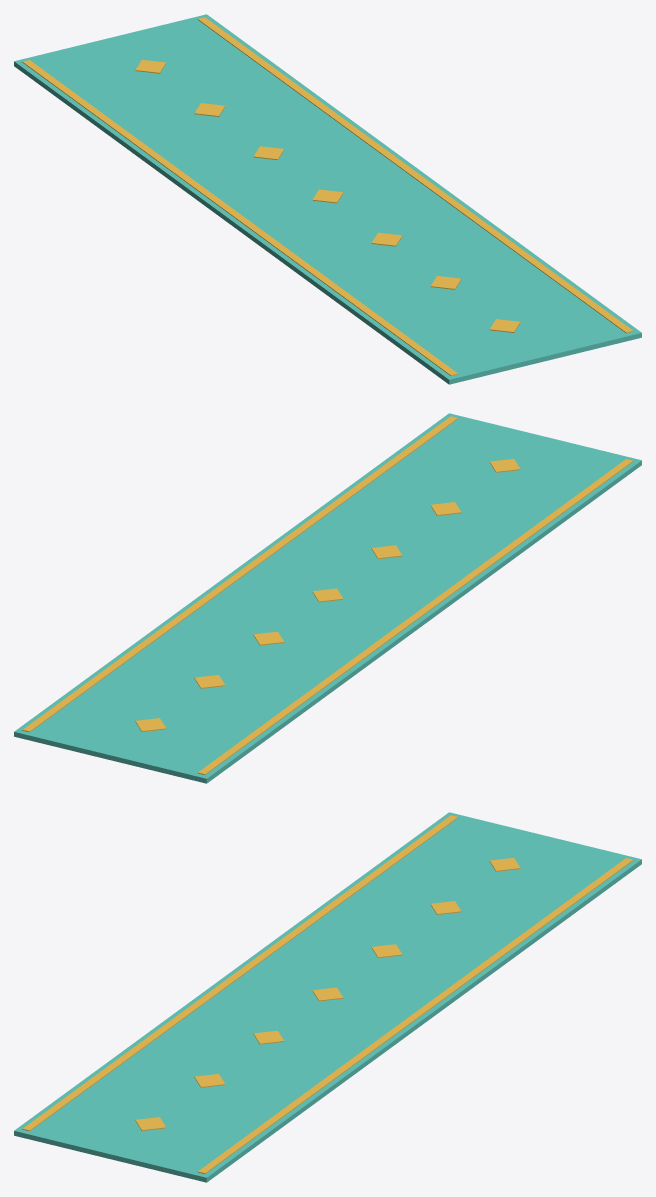
The picture shows the model from 3 angles, top to bottom: view 1: azimuth 30°, elevation 25°; view 2: azimuth 150°, elevation 25°; view 3: azimuth 330°, elevation 25°; orthographic projection.
Parts seen in each view (by area): view 1: Aisle runner, Woven gold border, Woven gold border.001; view 2: Aisle runner, Woven gold border, Woven gold border.001; view 3: Aisle runner, Woven gold border, Woven gold border.001.
Boxes of the visible parts, x1,y1,x2,y2 form: Aisle runner: (14,14,641,384); Woven gold border: (22,60,457,375); Woven gold border.001: (197,17,633,333); Aisle runner: (14,413,641,783); Woven gold border: (198,459,633,774); Woven gold border.001: (22,416,458,732); Aisle runner: (14,812,641,1182); Woven gold border: (22,815,458,1131); Woven gold border.001: (198,858,633,1173).
Size of the model in its own units: 0.66 by 0.0195 by 2.58.
Materials: 1 (1 with a texture image).
